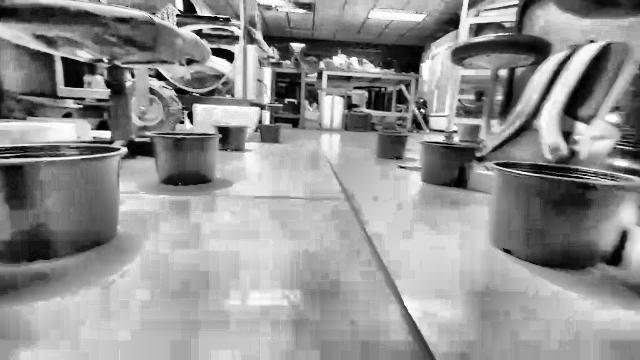pot: (492, 162, 638, 270), (0, 142, 126, 263), (148, 131, 221, 186), (421, 141, 478, 187), (213, 125, 247, 150), (378, 131, 408, 159), (258, 124, 281, 142)
